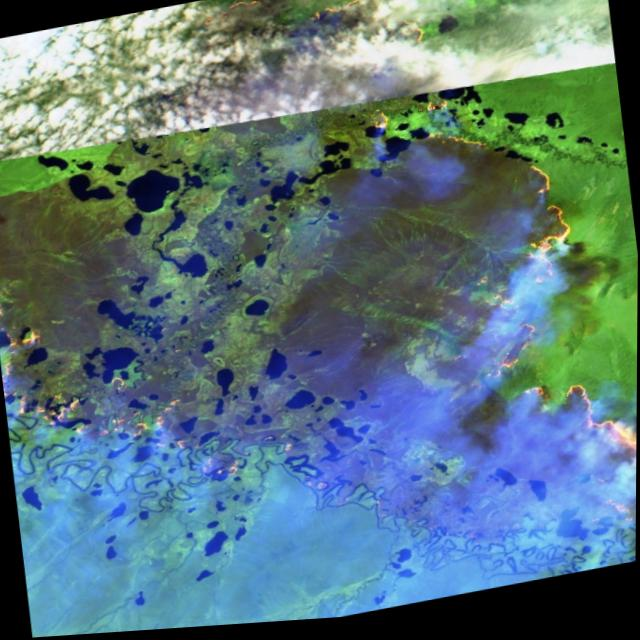fire: (300, 0, 640, 588), (0, 250, 250, 520)
